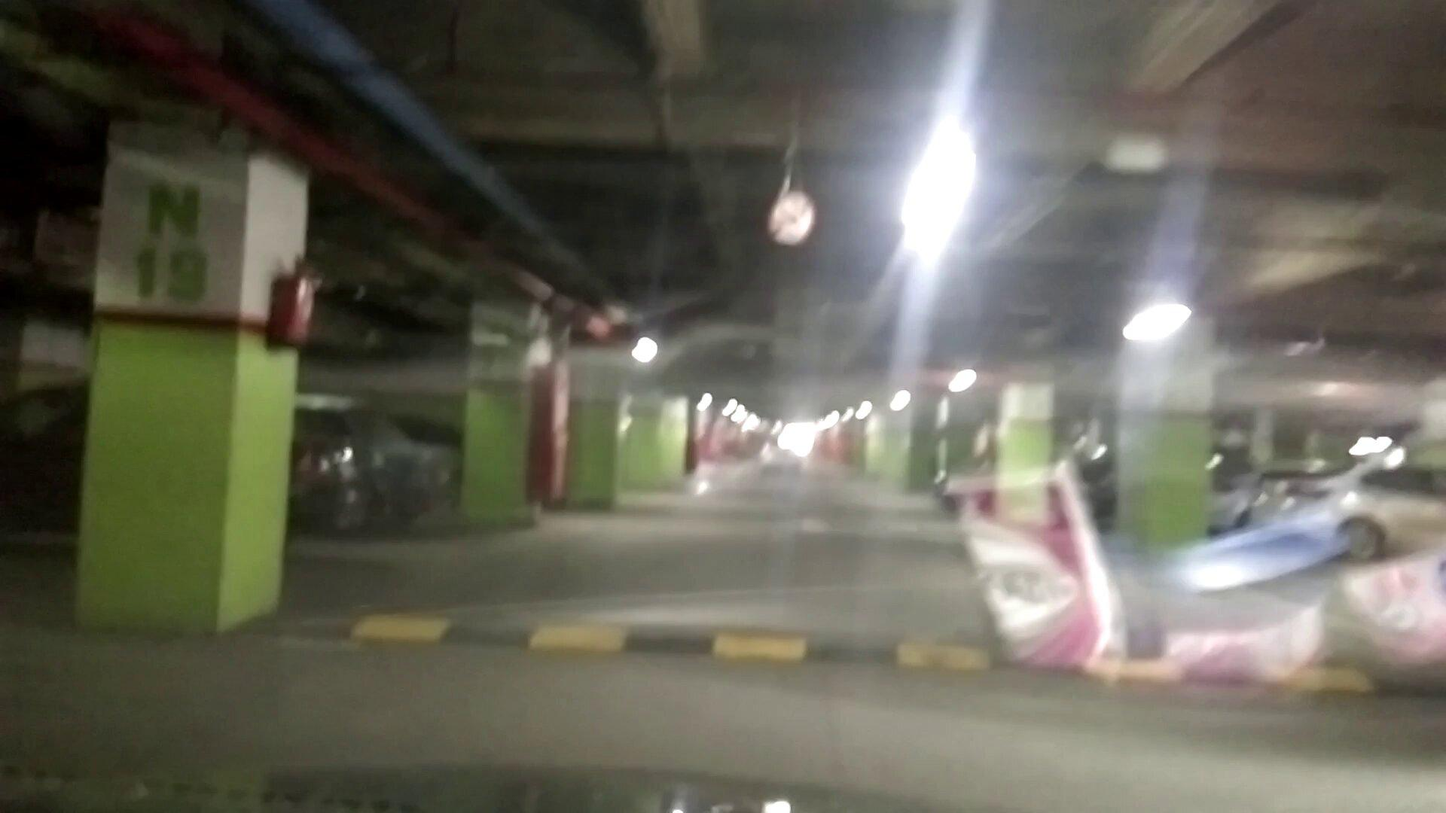Bump: (233, 606, 1445, 698)
